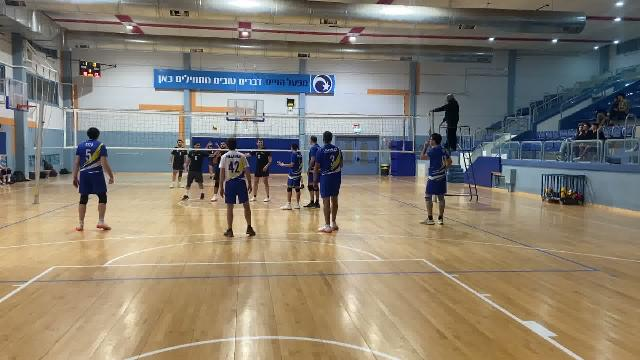ball: (211, 123, 221, 133)
